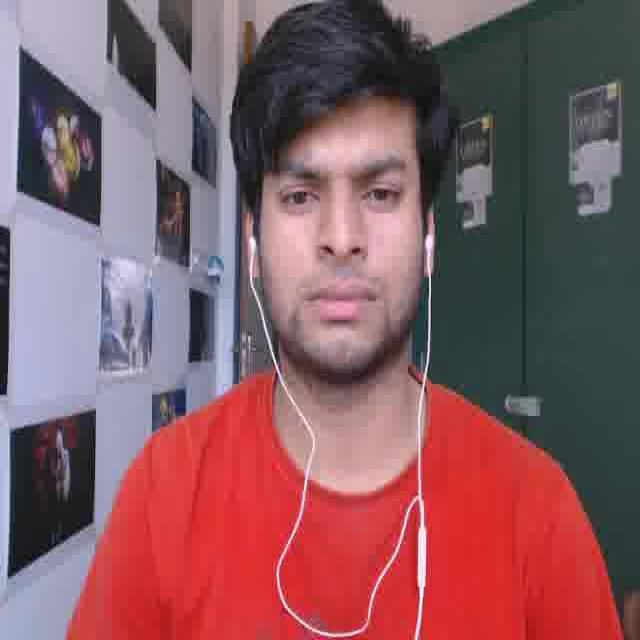Frustration: (254, 88, 421, 361)
